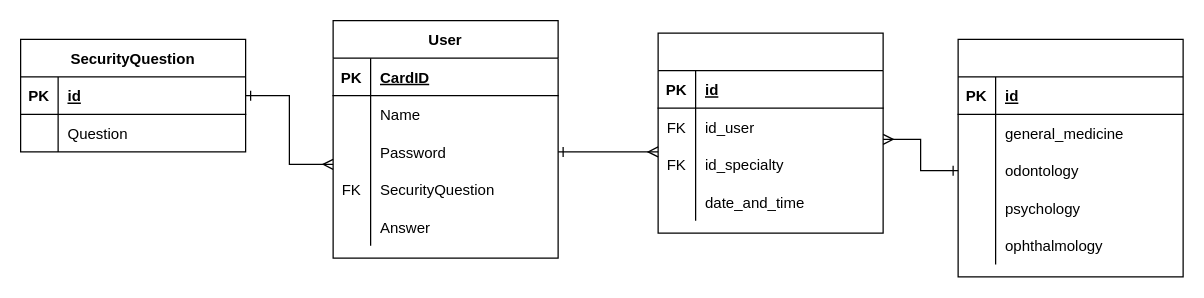
Some shapes in this 1204 by 298 pixel diagram are drawn without their labels. Each missing label, with the box of its shape:
Reservation: (657, 32, 883, 233)
Speciality: (957, 38, 1183, 277)
